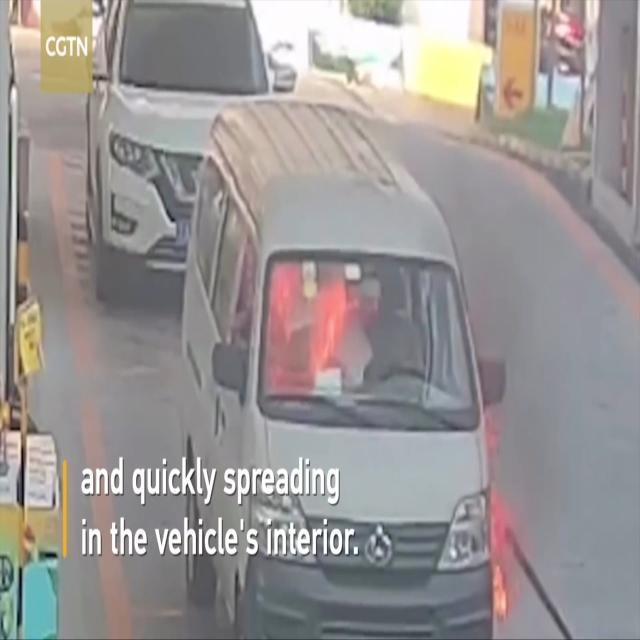fire: (258, 259, 370, 396), (488, 402, 512, 634)
